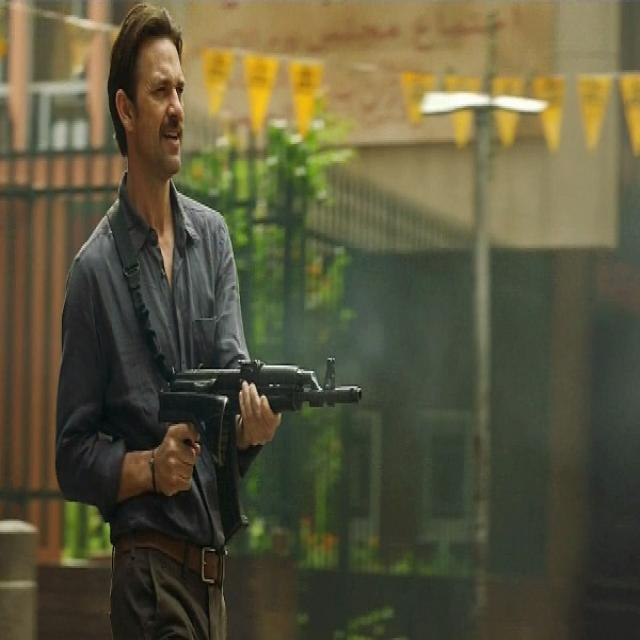rifle: (151, 350, 369, 550)
